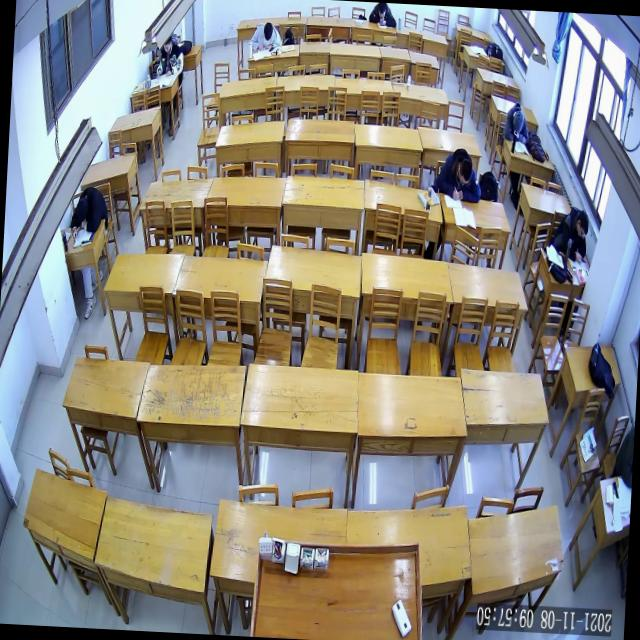bow: (431, 148, 483, 204), (70, 187, 110, 240), (502, 102, 530, 144), (251, 21, 283, 52), (368, 2, 398, 28)
down: (576, 210, 590, 238), (459, 158, 472, 188), (75, 198, 89, 222), (512, 110, 524, 134), (263, 22, 274, 41), (164, 36, 172, 53)
sit: (554, 206, 590, 263), (156, 36, 185, 80)
